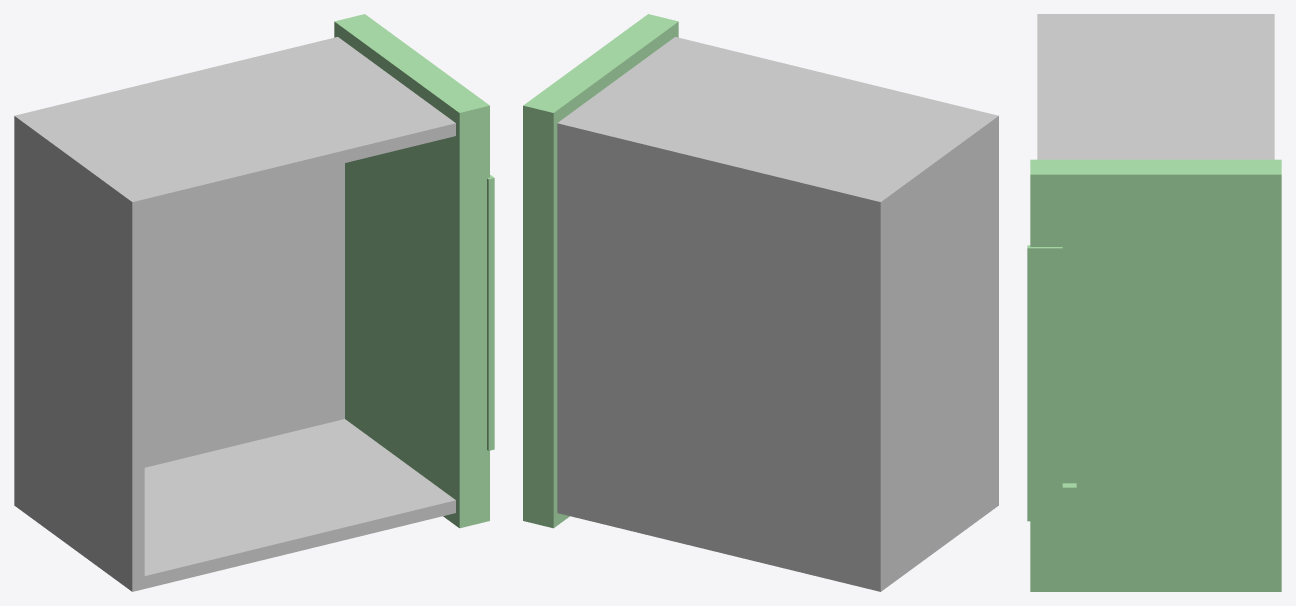
The model's file is TOSHIBA-CLACIO-REFRIGERATOR-BODYSET2_link_mesh.dae.
3 views of the same model, side by side, from view 1: azimuth 30°, elevation 25°; view 2: azimuth 150°, elevation 25°; view 3: azimuth 270°, elevation 25° (orthographic).
Parts seen in each view (by area): view 1: TOSHIBA-CLACIO-REFRIGERATOR-BODYSET2_link (×2); view 2: TOSHIBA-CLACIO-REFRIGERATOR-BODYSET2_link (×2); view 3: TOSHIBA-CLACIO-REFRIGERATOR-BODYSET2_link (×2).
Part boxes in pixels (x1,y1,x2,y2): TOSHIBA-CLACIO-REFRIGERATOR-BODYSET2_link (×2): (14,14,494,591); TOSHIBA-CLACIO-REFRIGERATOR-BODYSET2_link (×2): (523,14,998,591); TOSHIBA-CLACIO-REFRIGERATOR-BODYSET2_link (×2): (1027,14,1281,591).
Size of the model in its own units: 0.585 by 0.65 by 0.3595.
